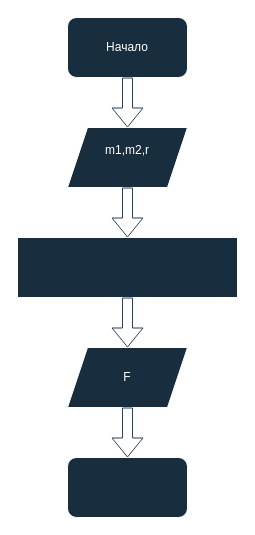
Some shapes in this 255 by 535 pixel diagram are drawn without their labels. Here are the shapes that lost their labels. From the top down, the centre of each, then its label:
(127,267): F= G * m1 * m2 / (r*r)
(127,487): Конец
